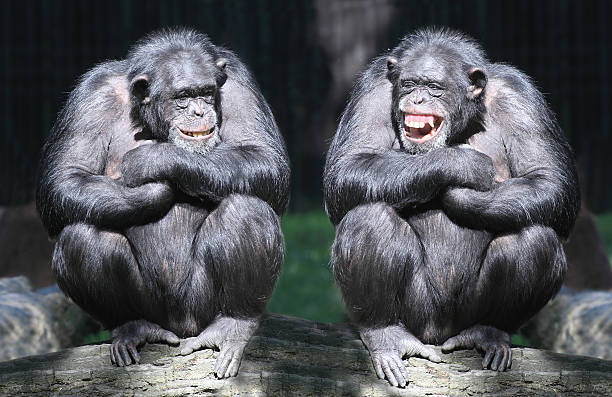chimpanzee: (104, 20, 262, 172), (367, 13, 504, 173)
